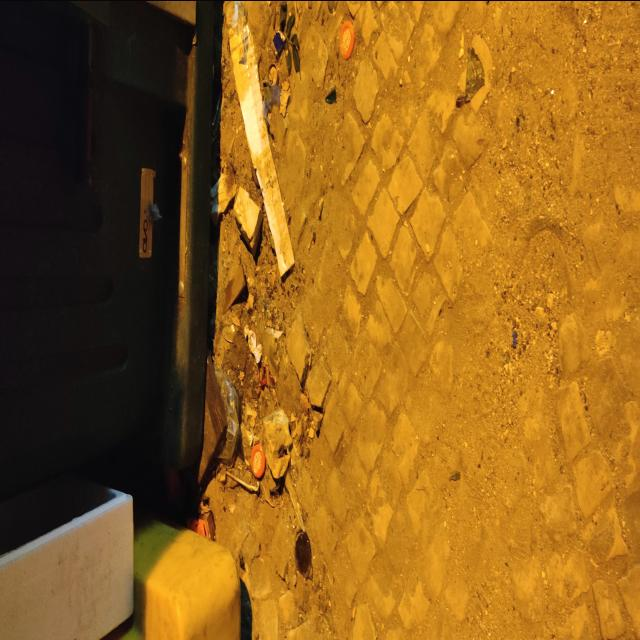Broken glass: (325, 87, 336, 103)
Corrugated carton: (225, 11, 295, 276)
Metal bottle cap: (327, 1, 338, 12)
Metal lid: (293, 529, 311, 567), (339, 18, 356, 58), (252, 443, 264, 476)
Other plastic: (244, 327, 262, 363)
Plastic film: (212, 360, 238, 458)
Unlabeled litter: (269, 62, 278, 84)
